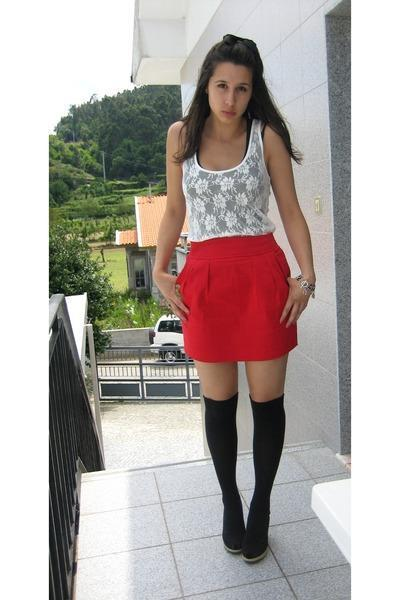shirt: (181, 156, 274, 243)
shoe: (222, 492, 270, 558)
skirt: (180, 232, 297, 362)
